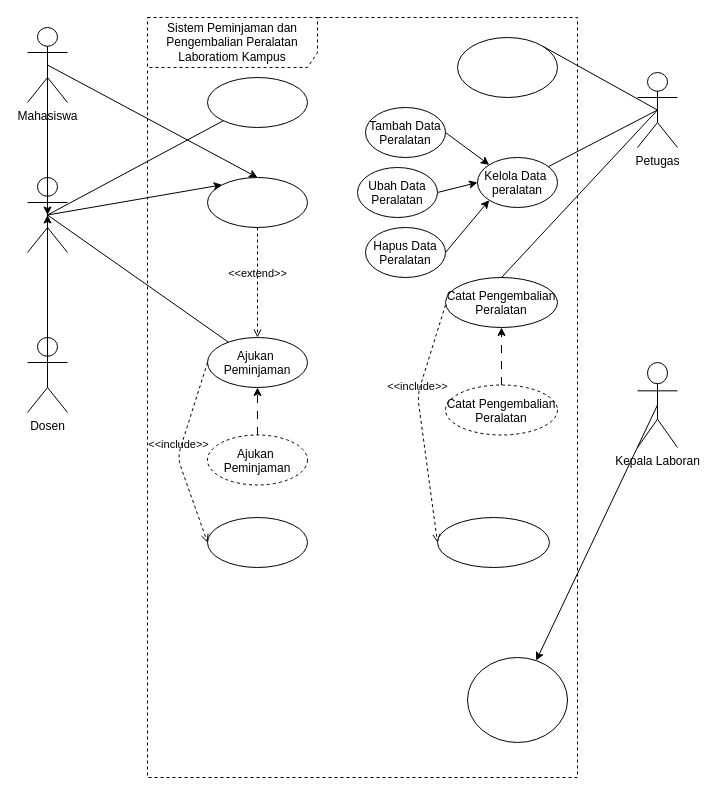
This 717x795 diagram has some shape labels left out. Here are the shapes that lost their labels. From the top down, the centre of each, then its label:
At (507,67): "Proses Keputusan Peminjaman".
At (257,102): "Lihat ketersediaan Peralatan".
At (47,214): "Peminjam".
At (257,202): "Cetak bukti Pengajuan".
At (257,542): "Periksa Ketersediaan".
At (493,542): "Periksa Kondisi Peralatan".
At (517,699): "Lihat Laporan peminjaman".
